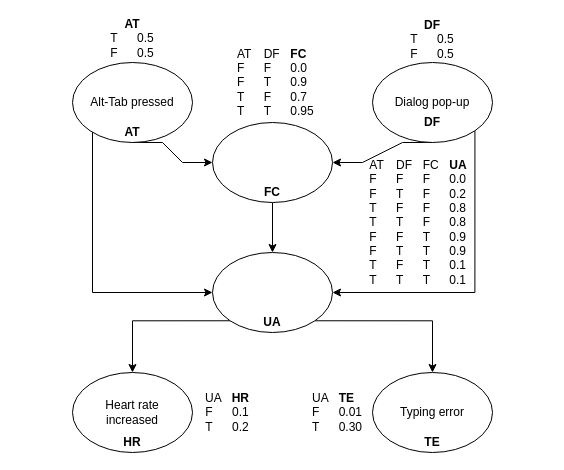
Some shapes in this 564 by 470 pixel diagram are drawn without their labels. The shapes that lost their labels are listed below. From the top down, each one's box as (x1, y1, x2, y2) in pixels, then its label:
(212, 122, 332, 202): Focus change
(212, 252, 332, 332): User annoyed
